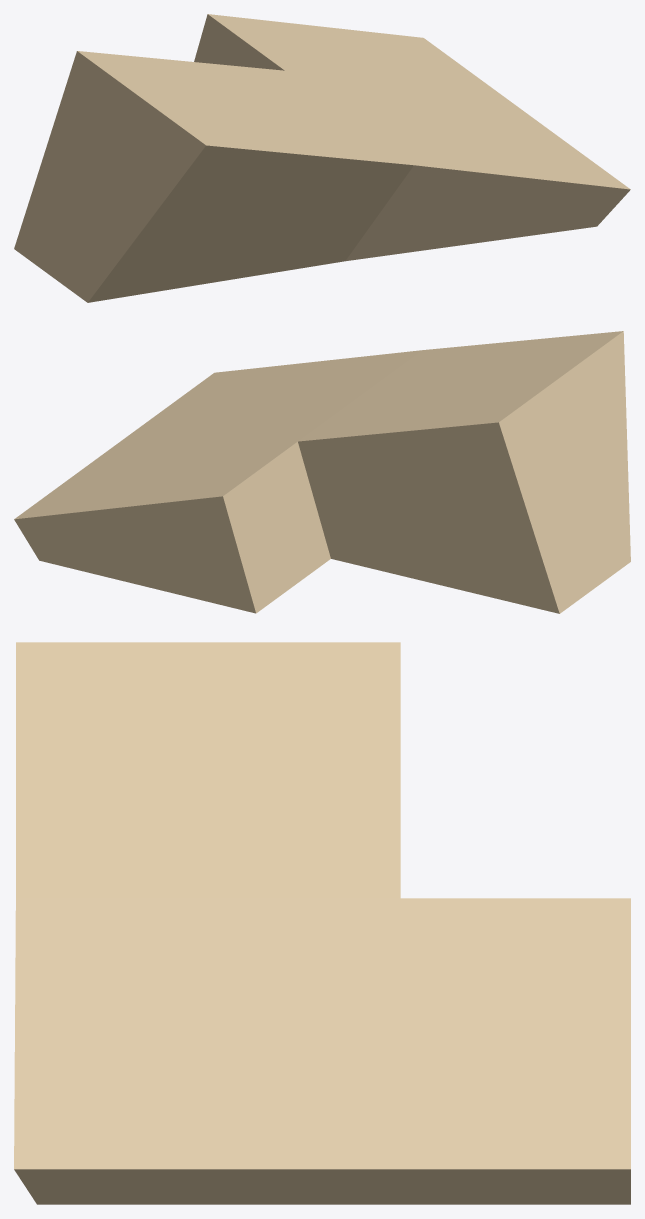
File: roofcornertop.fbx
3 views of the same model, one above another, from view 1: azimuth 30°, elevation 25°; view 2: azimuth 150°, elevation 25°; view 3: azimuth 270°, elevation 25° (orthographic). The views are drawn at different scales.
Parts seen in each view (by area): view 1: lowpolycornerpiece; view 2: lowpolycornerpiece; view 3: lowpolycornerpiece.
Boxes of the visible parts, x1=… form: lowpolycornerpiece: x1=14, y1=14, x2=630, y2=302; lowpolycornerpiece: x1=14, y1=331, x2=630, y2=613; lowpolycornerpiece: x1=14, y1=642, x2=630, y2=1204.
Size of the model in its own units: 523 by 188 by 386.
